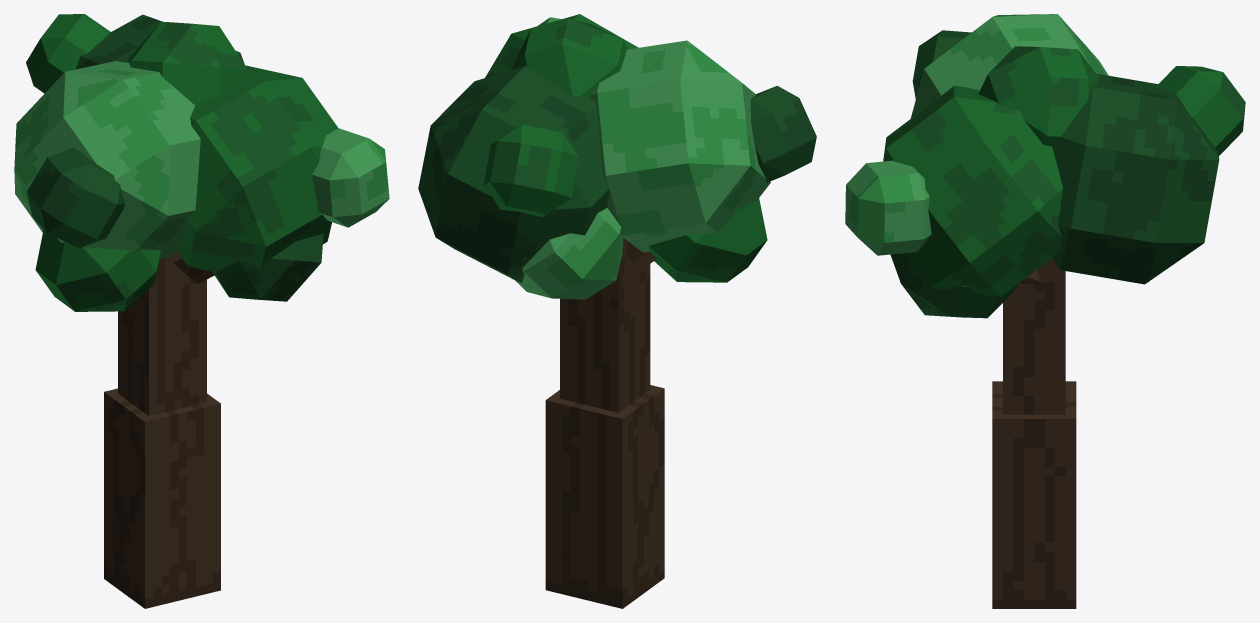
File: tree.gltf
3 renders of one model, left to right at view 1: azimuth 30°, elevation 25°; view 2: azimuth 150°, elevation 25°; view 3: azimuth 270°, elevation 25°, orthographic.
Visible parts, largest first — view 1: beveled_cuboid (×9), cube (×2); view 2: beveled_cuboid (×8), cube (×3); view 3: beveled_cuboid (×8), cube (×2).
Part boxes in pixels (left/top/right/bottom): beveled_cuboid (×9): left=14, top=14, right=389, bottom=311; cube (×2): left=104, top=250, right=220, bottom=608; beveled_cuboid (×8): left=418, top=14, right=816, bottom=299; cube (×3): left=545, top=237, right=664, bottom=608; beveled_cuboid (×8): left=845, top=14, right=1245, bottom=318; cube (×2): left=992, top=258, right=1076, bottom=608.
Bounding box in the file's own units: 1.11 × 1.84 × 1.19.
1 material, 1 textured.
